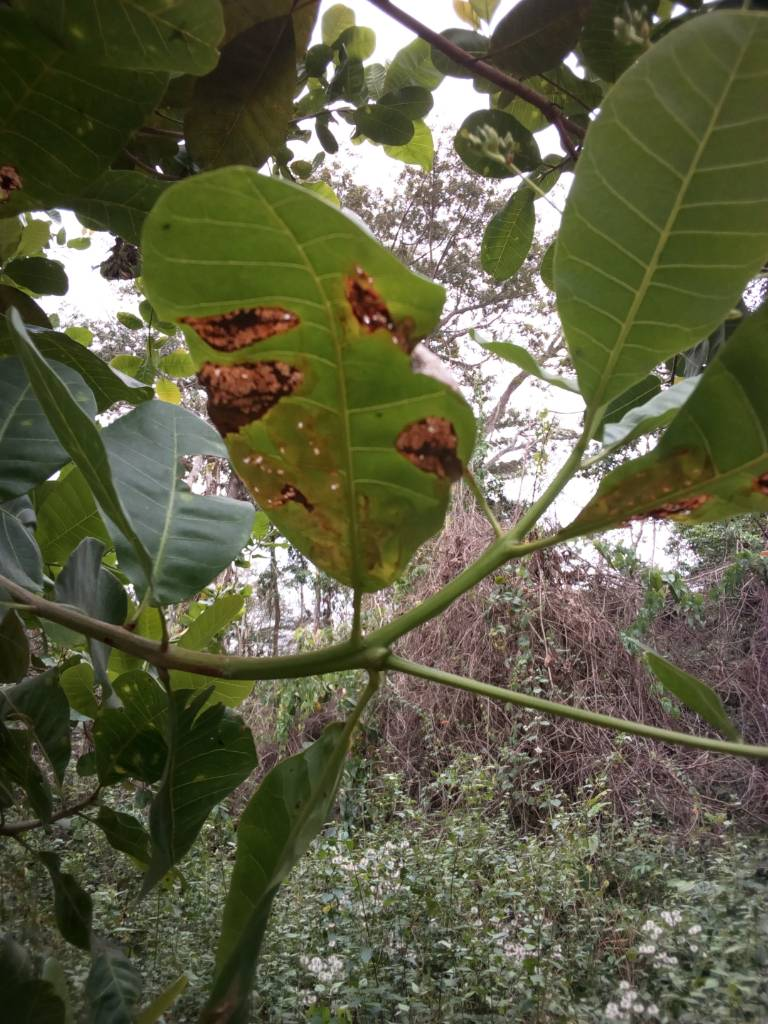Bactériose: (143, 161, 469, 588), (555, 410, 768, 542)
